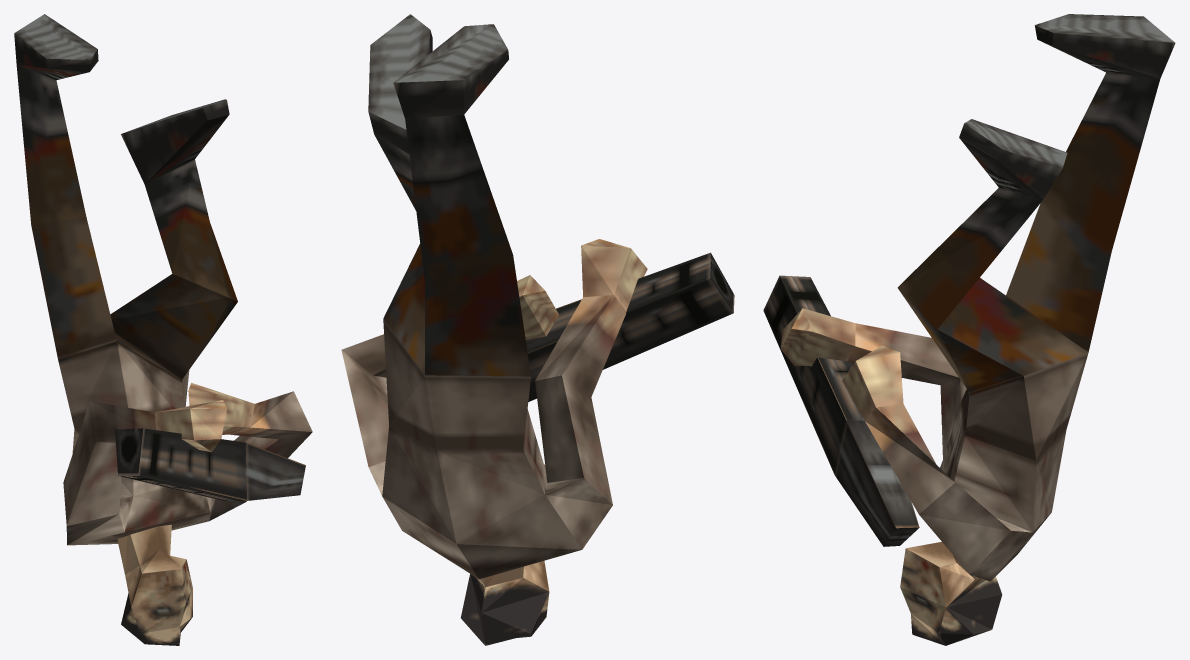
File: GOON_000016.obj
3 renders of one model, left to right at view 1: azimuth 30°, elevation 25°; view 2: azimuth 150°, elevation 25°; view 3: azimuth 270°, elevation 25°, orthographic. The views are drawn at different scales.
Visible parts, largest first — view 1: Cube_Cube.001; view 2: Cube_Cube.001; view 3: Cube_Cube.001.
Boxes of the visible parts, x1,y1,x2,y2 form: Cube_Cube.001: (14,14,312,645); Cube_Cube.001: (341,14,734,645); Cube_Cube.001: (763,14,1175,645).
Size of the model in its own units: 12.01 by 24.86 by 15.56.
